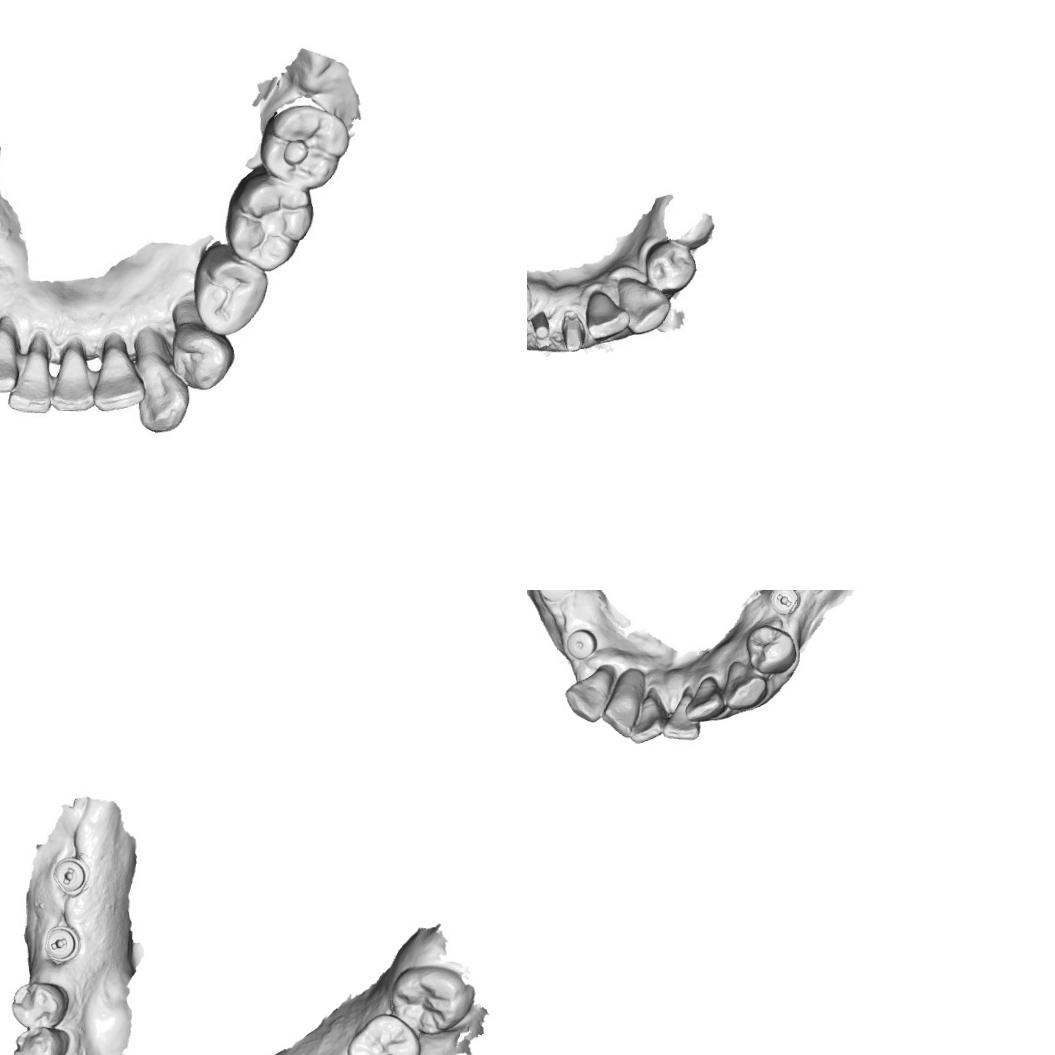abutment: (528, 308, 559, 343)
canine: (130, 330, 194, 432), (615, 272, 669, 334), (562, 666, 612, 723), (723, 658, 770, 712)
crown: (559, 308, 589, 353)
implant: (564, 628, 598, 660), (535, 590, 576, 604)
implant_minus: (50, 854, 90, 900), (40, 924, 81, 967), (767, 590, 800, 617)
incisor: (91, 336, 149, 416), (6, 332, 60, 416), (52, 341, 97, 416), (598, 684, 642, 739), (584, 292, 630, 344), (660, 690, 702, 742), (684, 674, 726, 724), (627, 694, 664, 746), (0, 316, 20, 397)
molar: (226, 171, 313, 270), (263, 103, 349, 186), (388, 962, 477, 1038), (344, 1011, 422, 1055)
premolar: (192, 244, 272, 339), (168, 318, 234, 389), (8, 979, 70, 1032), (742, 622, 799, 676), (642, 240, 696, 296), (11, 1024, 71, 1055)
